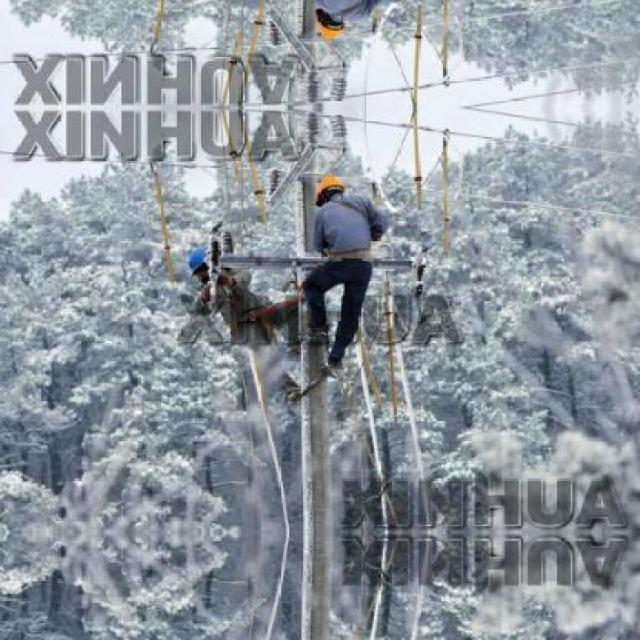helmet: (179, 244, 224, 284), (308, 5, 347, 38), (308, 175, 347, 207)
